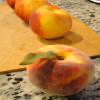Peach leaf: (19, 51, 57, 66)
